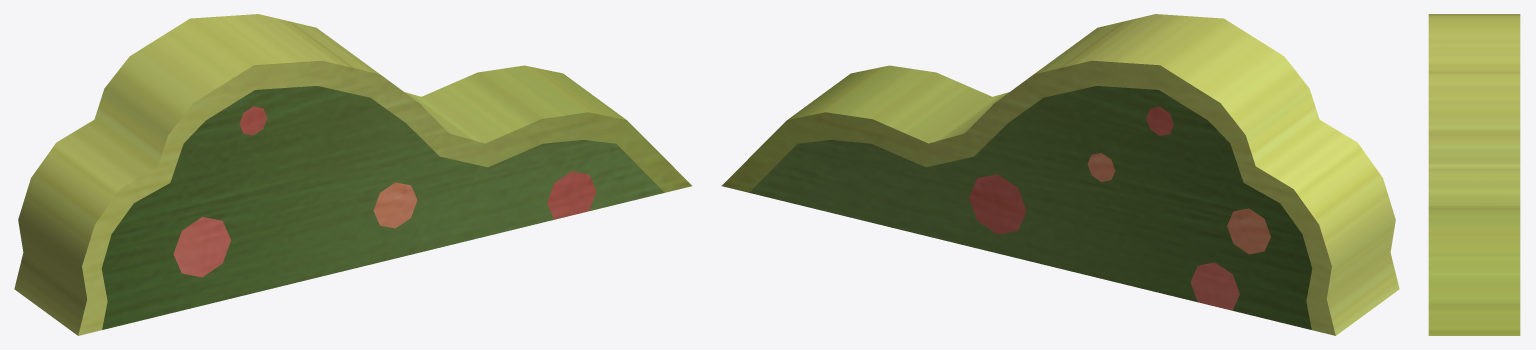
The model's file is Doll_OB_ToyTree_2.fbx.
The picture shows the model from 3 angles, left to right: view 1: azimuth 30°, elevation 25°; view 2: azimuth 150°, elevation 25°; view 3: azimuth 270°, elevation 25°; orthographic projection. The views are drawn at different scales.
Parts seen in each view (by area): view 1: Doll_OB_ToyTree_2; view 2: Doll_OB_ToyTree_2; view 3: Doll_OB_ToyTree_2.
Part boxes in pixels (x1,y1,x2,y2): Doll_OB_ToyTree_2: [14, 14, 691, 335]; Doll_OB_ToyTree_2: [722, 14, 1399, 335]; Doll_OB_ToyTree_2: [1428, 14, 1520, 335].
Bounding box in the file's own units: 13.52 × 4.79 × 2.49.
1 material, 1 textured.
